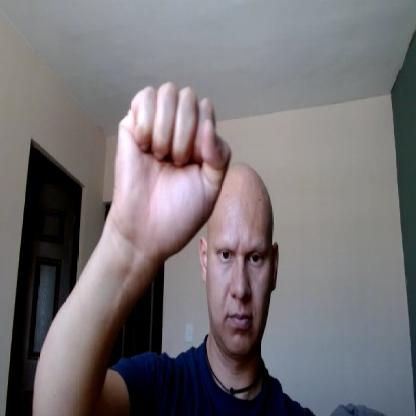S: (113, 86, 233, 245)
